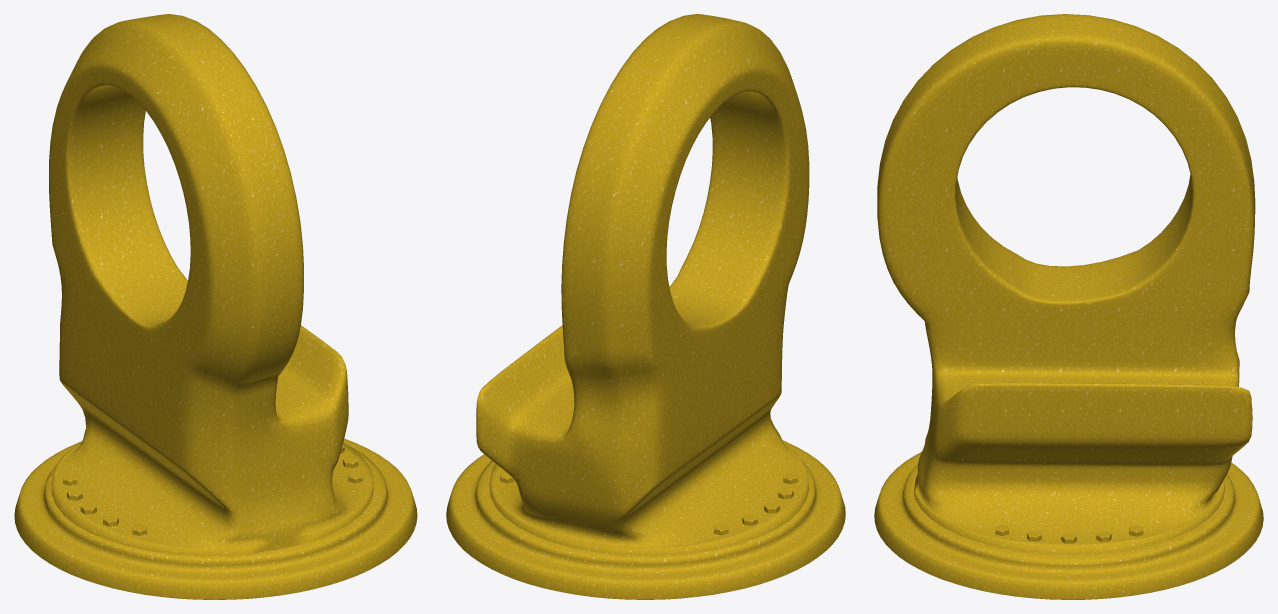
File: Base_Brazo.obj
3 renders of one model, left to right at view 1: azimuth 30°, elevation 25°; view 2: azimuth 150°, elevation 25°; view 3: azimuth 270°, elevation 25°, orthographic. The views are drawn at different scales.
Visible parts, largest first — view 1: Base_Brazo; view 2: Base_Brazo; view 3: Base_Brazo.
Part boxes in pixels (x1=…): Base_Brazo: x1=14, y1=14, x2=417, y2=599; Base_Brazo: x1=446, y1=14, x2=845, y2=599; Base_Brazo: x1=874, y1=14, x2=1263, y2=599.
Bounding box in the file's own units: 0.2705 × 0.3676 × 0.2705.
Materials: 1 (1 with a texture image).
